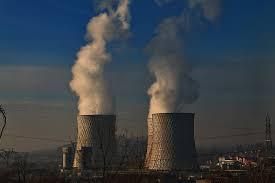smoke: (146, 31, 201, 112), (75, 43, 112, 114), (83, 8, 134, 41)
